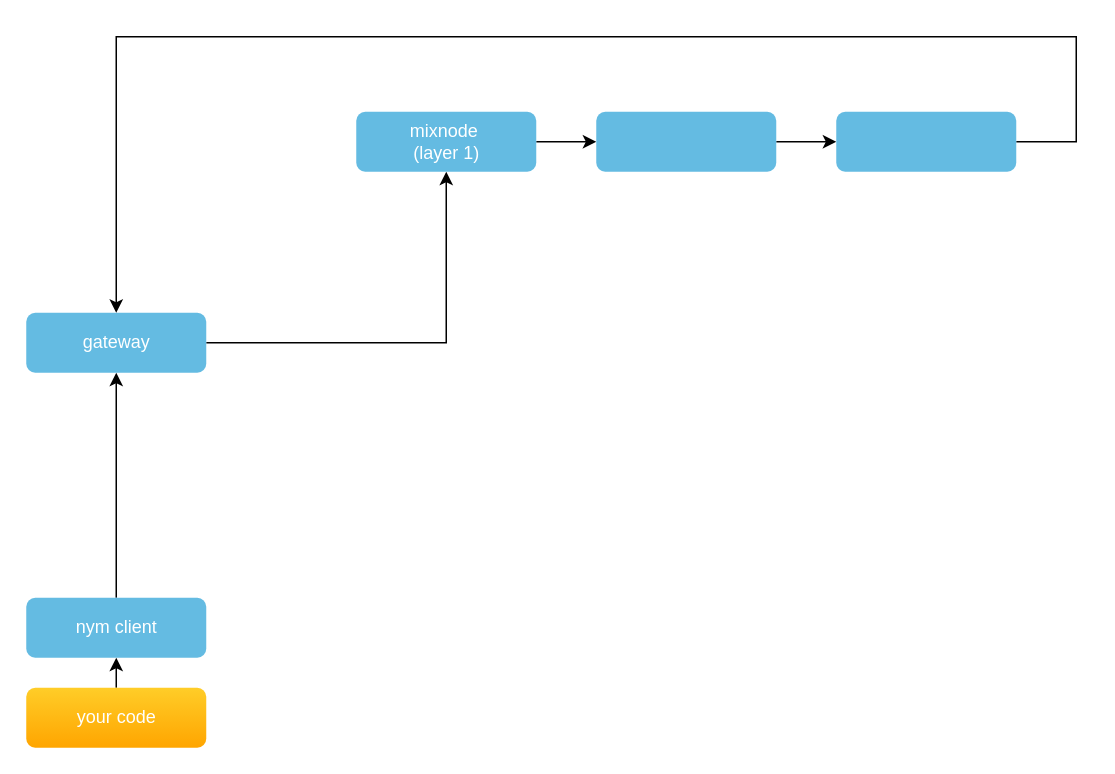
Some shapes in this 1115 by 774 pixel diagram are drawn without their labels. Each missing label, with the centre of its shape:
"mixnode (layer 2)" goes at (x=686, y=141).
"mixnode (layer 3)" goes at (x=926, y=141).
